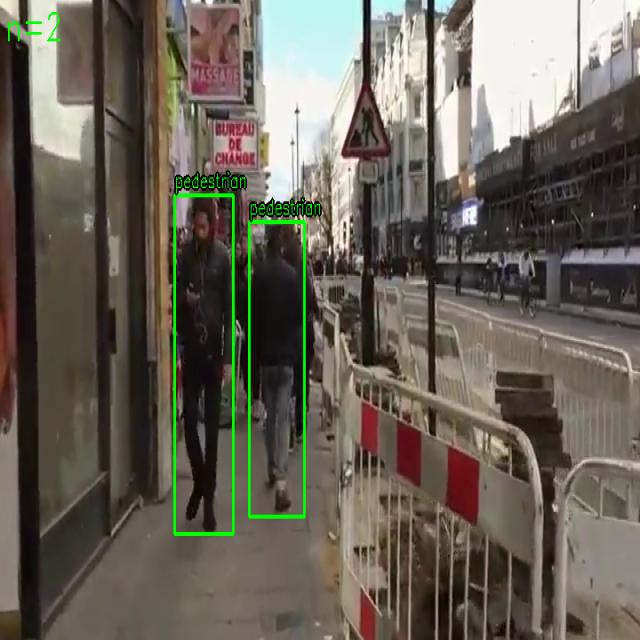with scooter: (174, 195, 234, 534), (249, 222, 305, 518)
